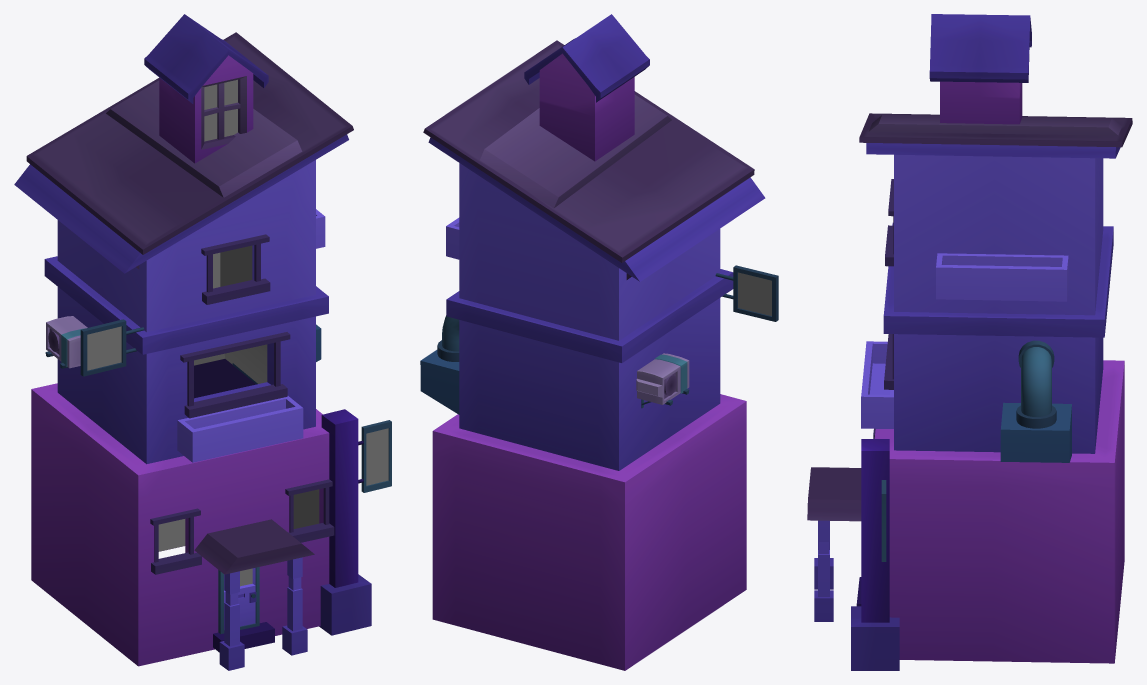
File: scene_building_right.obj
The picture shows the model from 3 angles, left to right: view 1: azimuth 30°, elevation 25°; view 2: azimuth 150°, elevation 25°; view 3: azimuth 270°, elevation 25°; orthographic projection. The views are drawn at different scales.
Parts seen in each view (by area): view 1: building_right; view 2: building_right; view 3: building_right.
Boxes of the visible parts, x1,y1,x2,y2 form: building_right: [14, 14, 391, 670]; building_right: [420, 14, 778, 670]; building_right: [807, 14, 1132, 670].
Size of the model in its own units: 902 by 1668 by 815.
2 materials, 1 textured.
